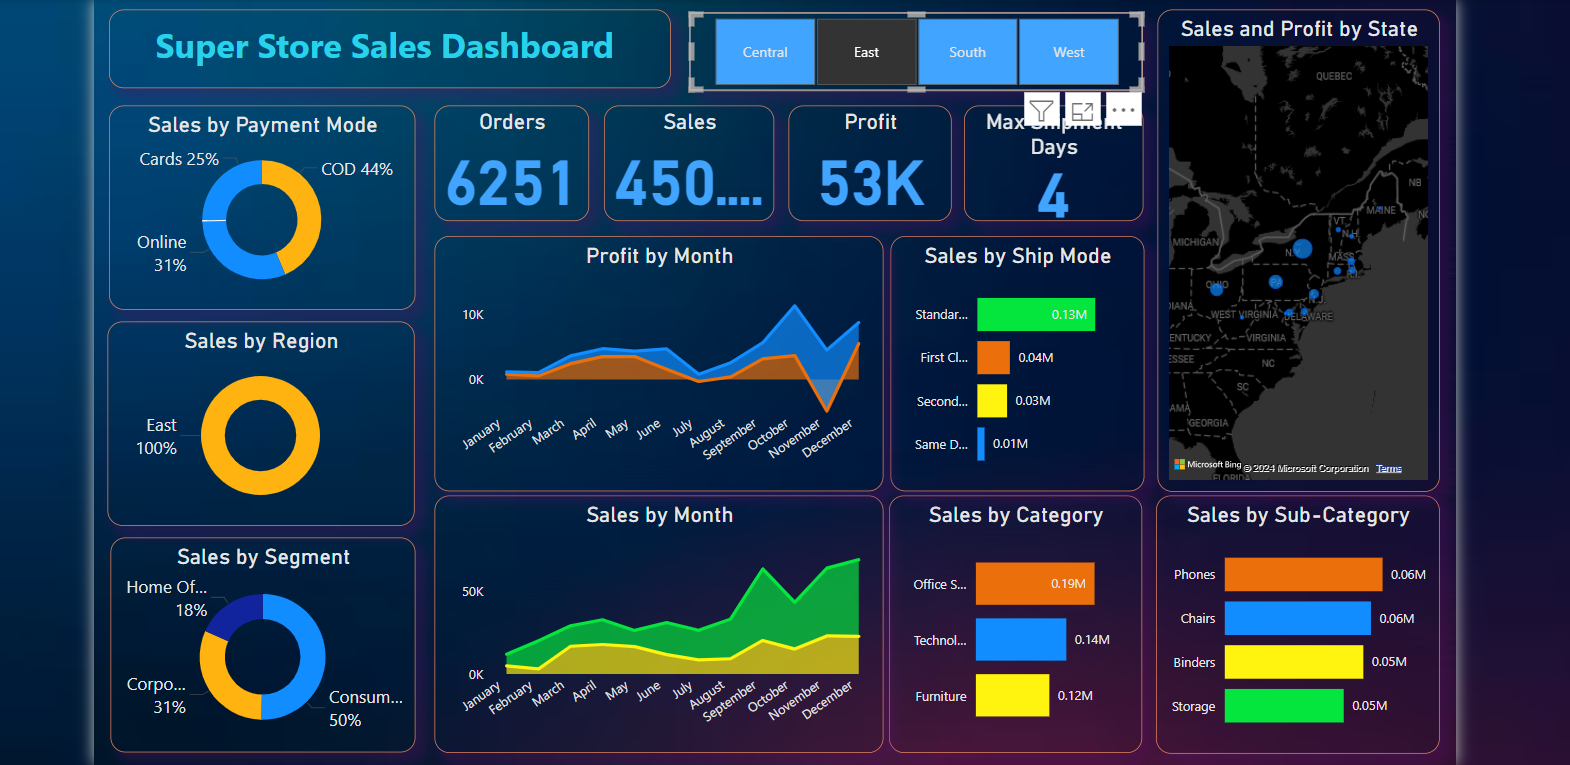

The dashboard page shown, as its layout file describes it:
{"tool":"powerbi","page":{"name":"Page 1","canvas":[1280,720],"ordinal":0},"visuals":[{"type":"clusteredBarChart","title":"Sales by Category","fields":{"Category":["SuperStore_Sales_Dataset.Category"],"Y":["Sum(SuperStore_Sales_Dataset.Sales)"]},"box":[747.8,466.7,237.8,242.2],"z":0},{"type":"clusteredBarChart","title":"Sales by  Sub-Category","fields":{"Y":["Sum(SuperStore_Sales_Dataset.Sales)"],"Category":["SuperStore_Sales_Dataset.Sub-Category"]},"box":[1000,466.7,265.6,242.2],"z":1000},{"type":"clusteredBarChart","title":"Sales by  Ship Mode","fields":{"Y":["Sum(SuperStore_Sales_Dataset.Sales)"],"Category":["SuperStore_Sales_Dataset.Ship Mode"]},"box":[748.3,223.3,238.3,240],"z":2000},{"type":"stackedAreaChart","title":"Sales by Month","fields":{"Category":["SuperStore_Sales_Dataset.Order Date.Variation.Date Hierarchy.Month","SuperStore_Sales_Dataset.Order Date.Variation.Date Hierarchy.Day"],"Y":["Sum(SuperStore_Sales_Dataset.Sales)"],"Series":["SuperStore_Sales_Dataset.Order Date.Variation.Date Hierarchy.Year"]},"box":[320,466.7,422.2,242.2],"z":3000},{"type":"stackedAreaChart","title":"Profit by Month","fields":{"Category":["SuperStore_Sales_Dataset.Order Date.Variation.Date Hierarchy.Month","SuperStore_Sales_Dataset.Order Date.Variation.Date Hierarchy.Day"],"Series":["SuperStore_Sales_Dataset.Order Date.Variation.Date Hierarchy.Year"],"Y":["Sum(SuperStore_Sales_Dataset.Profit)"]},"box":[320,223.3,422.2,240],"z":4000},{"type":"map","title":"Sales and Profit by State","fields":{"Category":["SuperStore_Sales_Dataset.State"],"Size":["Sum(SuperStore_Sales_Dataset.Sales)"]},"box":[1000,10,265.6,453.3],"z":5000},{"type":"donutChart","title":"Sales by Payment Mode","fields":{"Y":["Sum(SuperStore_Sales_Dataset.Sales)"],"Category":["SuperStore_Sales_Dataset.Payment Mode"]},"box":[14,100,288,192],"z":6000},{"type":"donutChart","title":"Sales by Region","fields":{"Y":["Sum(SuperStore_Sales_Dataset.Sales)"],"Category":["SuperStore_Sales_Dataset.Region"]},"box":[13.3,303.3,288.3,191.7],"z":7000},{"type":"donutChart","title":"Sales by Payment Mode","fields":{"Y":["Sum(SuperStore_Sales_Dataset.Sales)"],"Category":["SuperStore_Sales_Dataset.Segment"]},"box":[15,506.7,286.7,201.7],"z":8000},{"type":"slicer","fields":{"Values":["SuperStore_Sales_Dataset.Region"]},"box":[560,12,426,74],"z":9000},{"type":"textbox","box":[14,10,528,74],"z":10000},{"type":"card","title":"Sales","fields":{"Values":["Sum(SuperStore_Sales_Dataset.Sales)"]},"box":[480,100,160,108.3],"z":11000},{"type":"card","title":"Orders","fields":{"Values":["Sum(SuperStore_Sales_Dataset.Quantity)"]},"box":[320,100,145,108.3],"z":12000},{"type":"card","title":"Profit","fields":{"Values":["Sum(SuperStore_Sales_Dataset.Profit)"]},"box":[653.3,100,153.3,108.3],"z":13000},{"type":"card","title":"Max Shipment Days","fields":{"Values":["Avg(SuperStore_Sales_Dataset.AvgDelivery)"]},"box":[818.3,100,168.3,108.3],"z":14000}]}

Visuals, with their boxes on the page's 1280x720 design canvas (x1, y1, x2, y2). These are canvas units, not pixel positions in the 1570x765 screenshot, which may show the page scaled, cropped or inside an application window:
"Sales by Category" clusteredBarChart: <box>748,467,986,709</box>
"Sales by  Sub-Category" clusteredBarChart: <box>1000,467,1266,709</box>
"Sales by  Ship Mode" clusteredBarChart: <box>748,223,987,463</box>
"Sales by Month" stackedAreaChart: <box>320,467,742,709</box>
"Profit by Month" stackedAreaChart: <box>320,223,742,463</box>
"Sales and Profit by State" map: <box>1000,10,1266,463</box>
"Sales by Payment Mode" donutChart: <box>14,100,302,292</box>
"Sales by Region" donutChart: <box>13,303,302,495</box>
"Sales by Payment Mode" donutChart: <box>15,507,302,708</box>
slicer - SuperStore_Sales_Dataset.Region: <box>560,12,986,86</box>
textbox: <box>14,10,542,84</box>
"Sales" card: <box>480,100,640,208</box>
"Orders" card: <box>320,100,465,208</box>
"Profit" card: <box>653,100,807,208</box>
"Max Shipment Days" card: <box>818,100,987,208</box>
